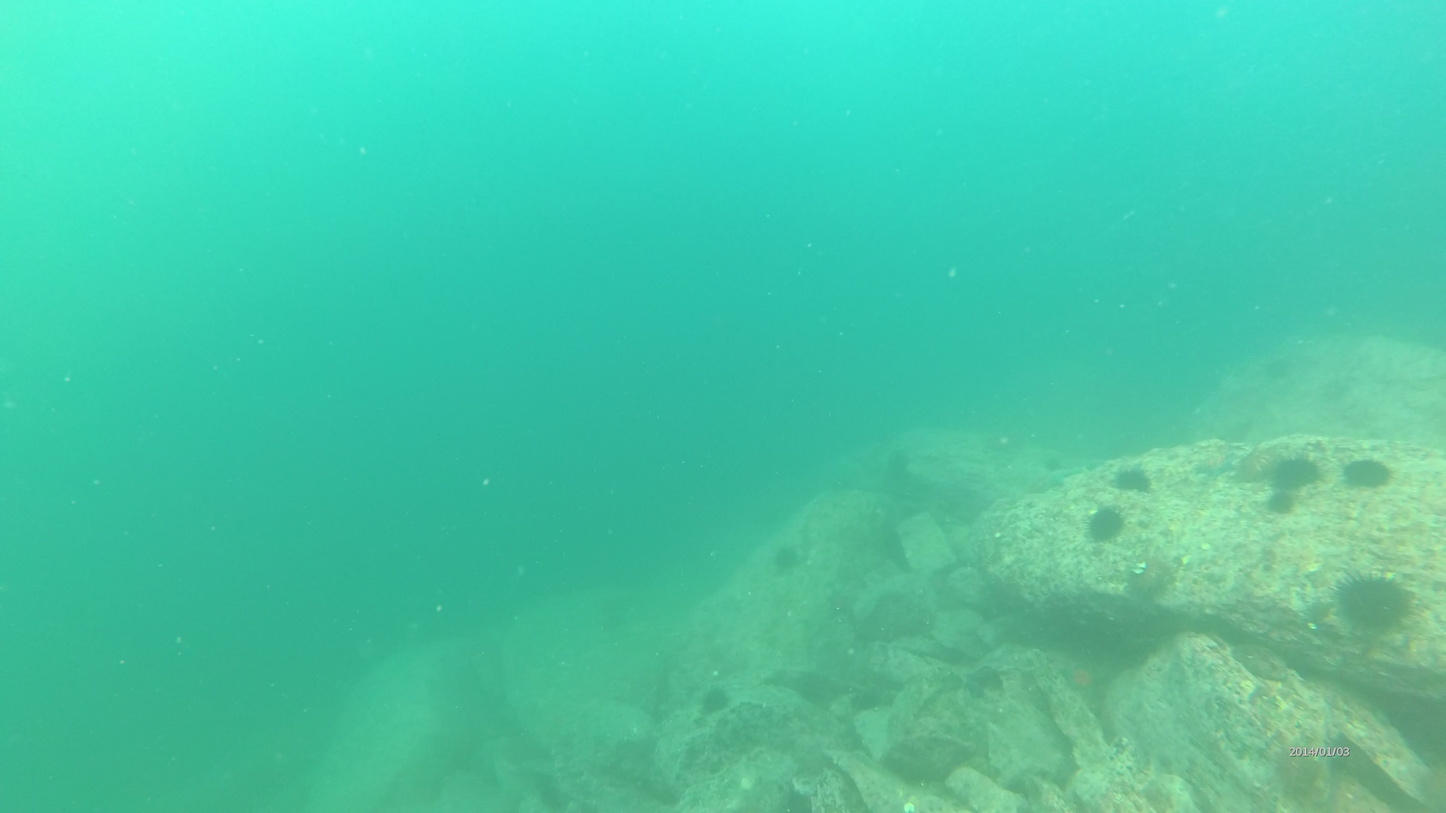starfish: (1333, 565, 1414, 639), (1340, 458, 1395, 493), (1273, 455, 1321, 491), (1088, 504, 1129, 546), (1106, 463, 1159, 494)
